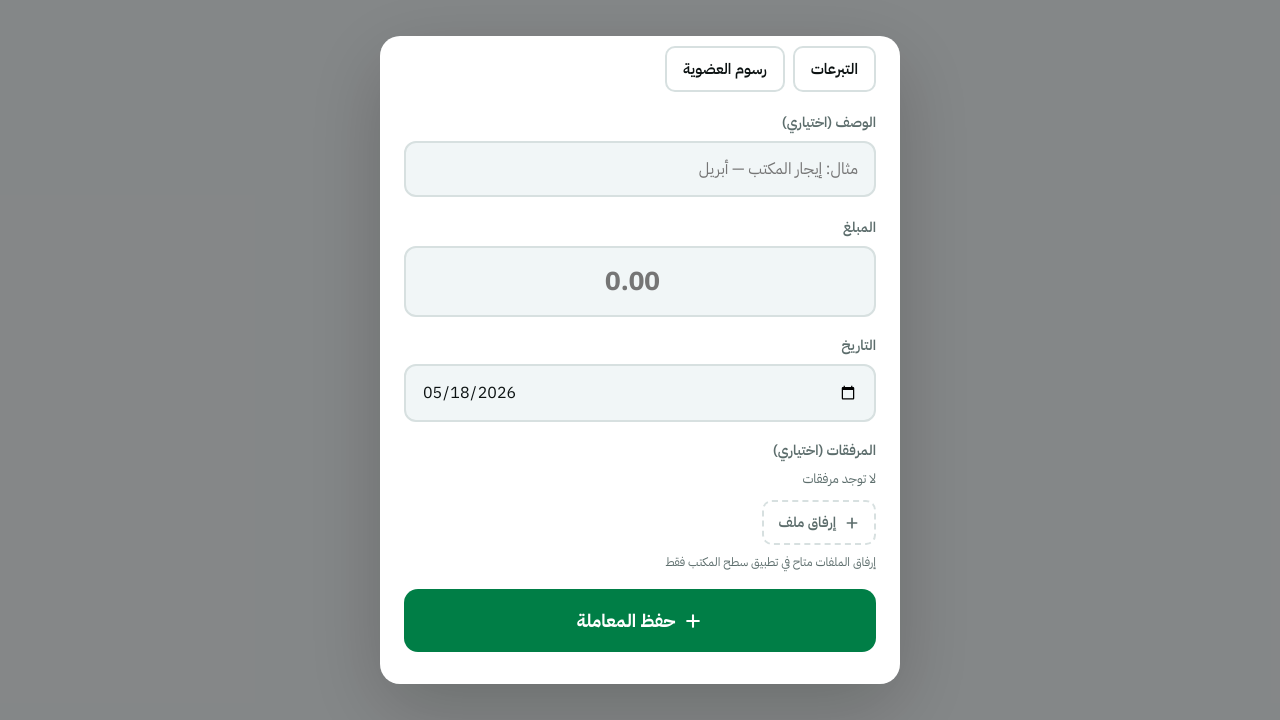
Scenario: AddTxModal (Arabic default) › shows category-required error when submitting without choosing a category
(page scrolled)
Click the button "حفظ المعاملة" at (640, 620), box [404,589,876,652]
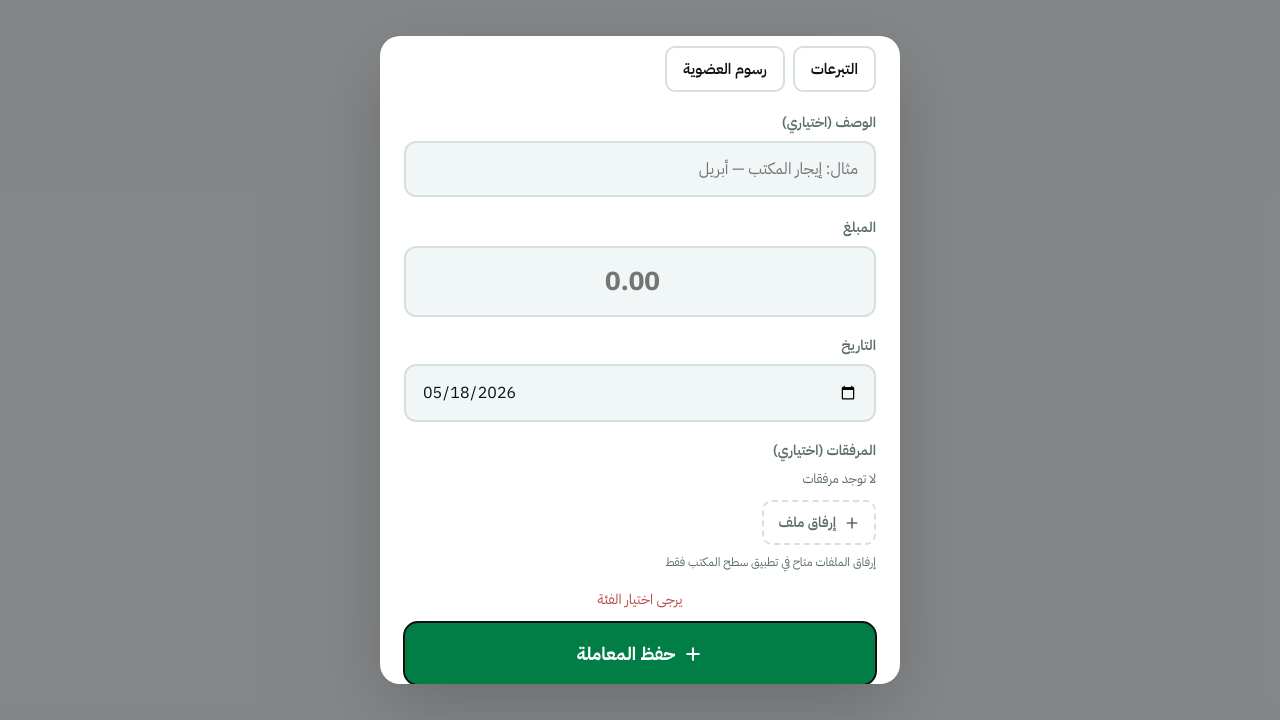
Now the message reads "يرجى اختيار الفئة", box [598,589,682,610]
